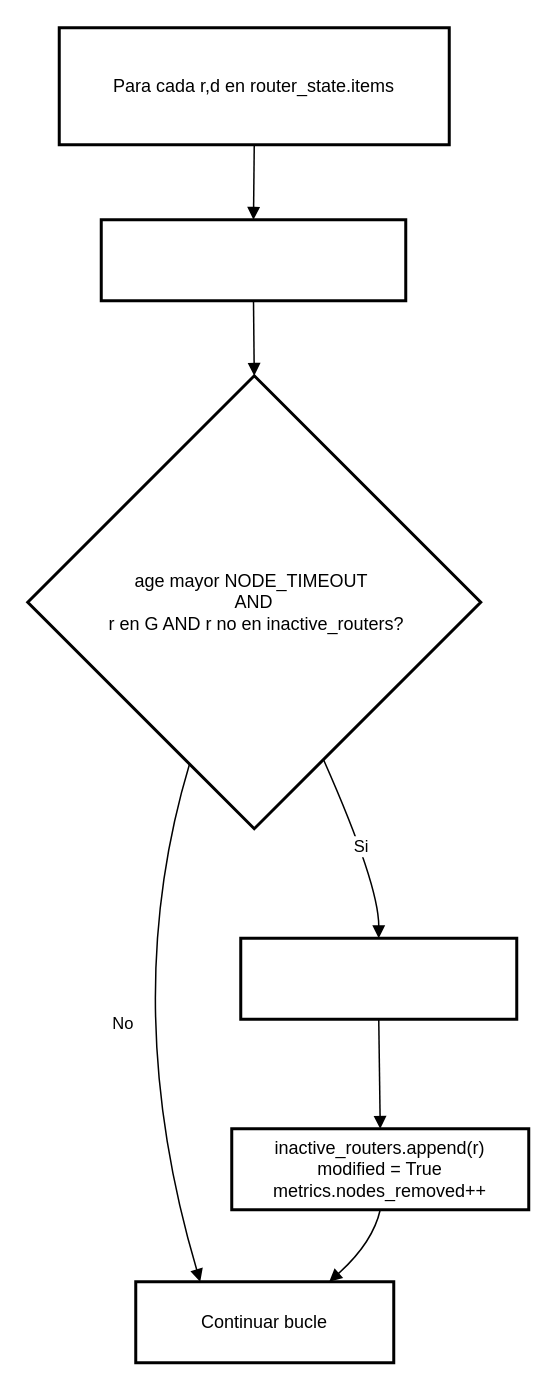
This 555x1389 diagram has some shape labels left out. The shapes that lost their labels are listed below. From the top down, each one's box as (x1, y1, x2, y2) in pixels, then its label:
(99, 218, 406, 302): age = now - d.get ts
(238, 936, 518, 1020): G.remove_node(r)
